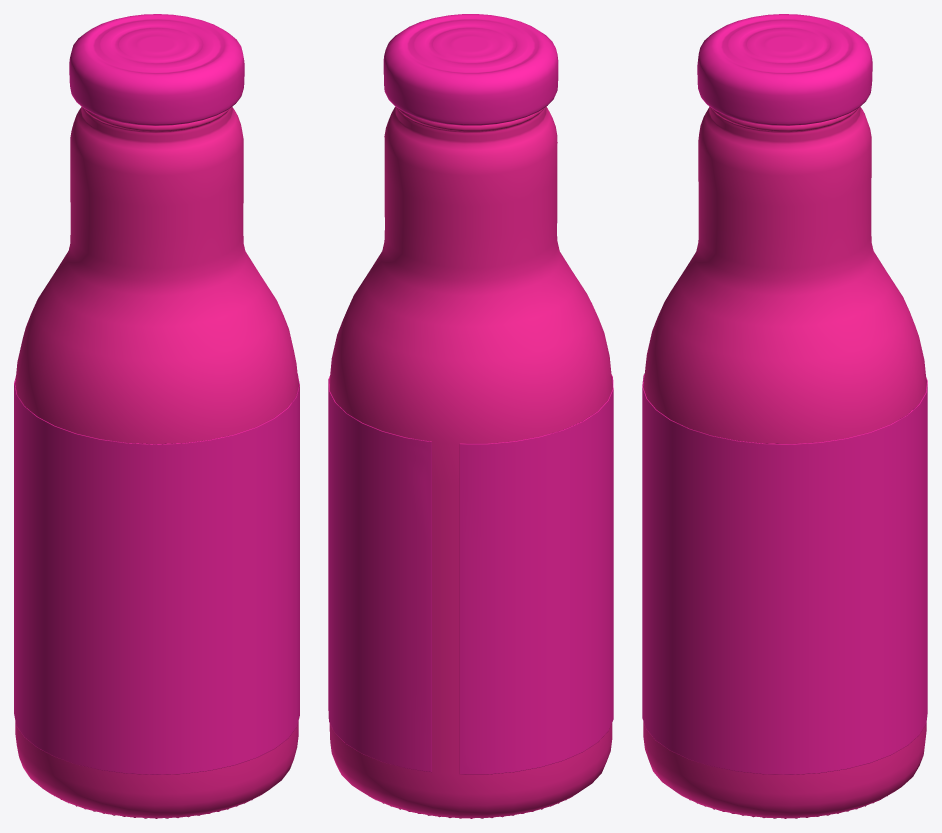
The model's file is hatsu_rosado.fbx.
3 views of the same model, side by side, from view 1: azimuth 30°, elevation 25°; view 2: azimuth 150°, elevation 25°; view 3: azimuth 270°, elevation 25° (orthographic).
Parts seen in each view (by area): view 1: Bottle; view 2: Bottle; view 3: Bottle.
Part boxes in pixels (box(x1,y1,x2,y2)): Bottle: box(14, 14, 299, 818); Bottle: box(328, 14, 613, 818); Bottle: box(642, 14, 927, 818).
Bounding box in the file's own units: 6.6 × 18.42 × 6.6.
